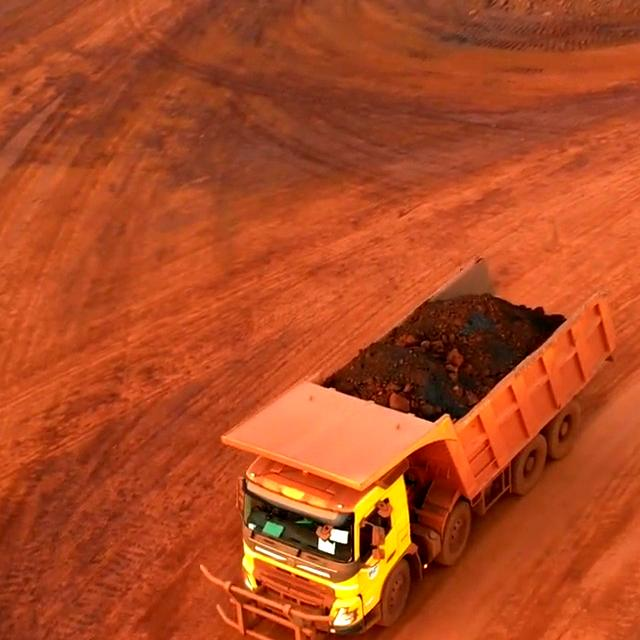Dumper truck: (247, 398, 450, 603)
